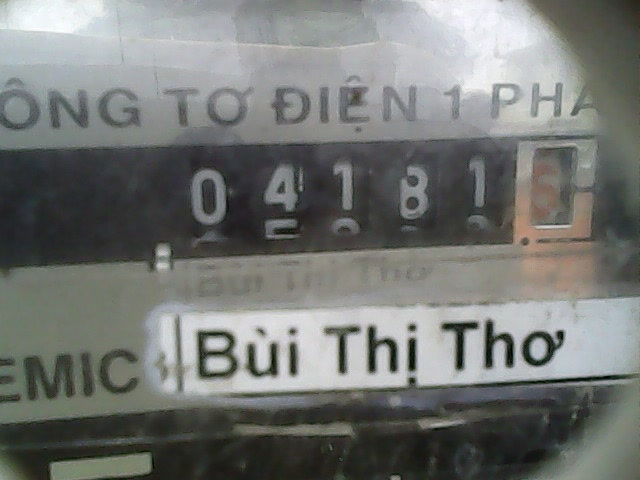phy_plate: (165, 135, 605, 256)
